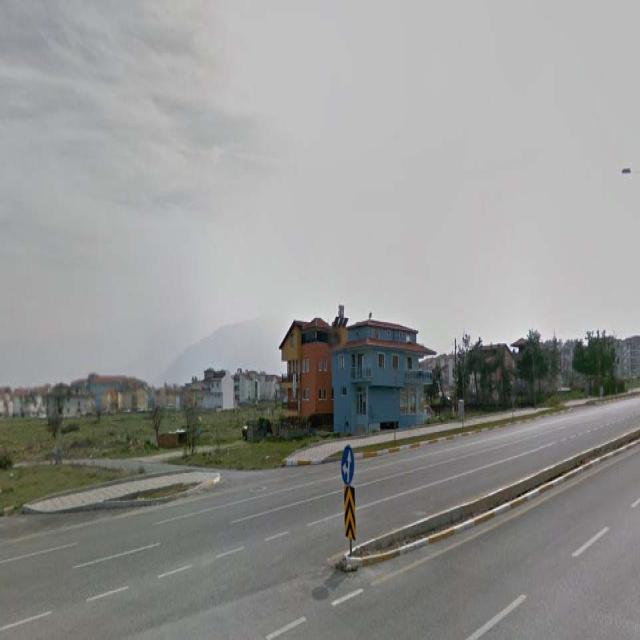ilerisol: (341, 445, 356, 484)
